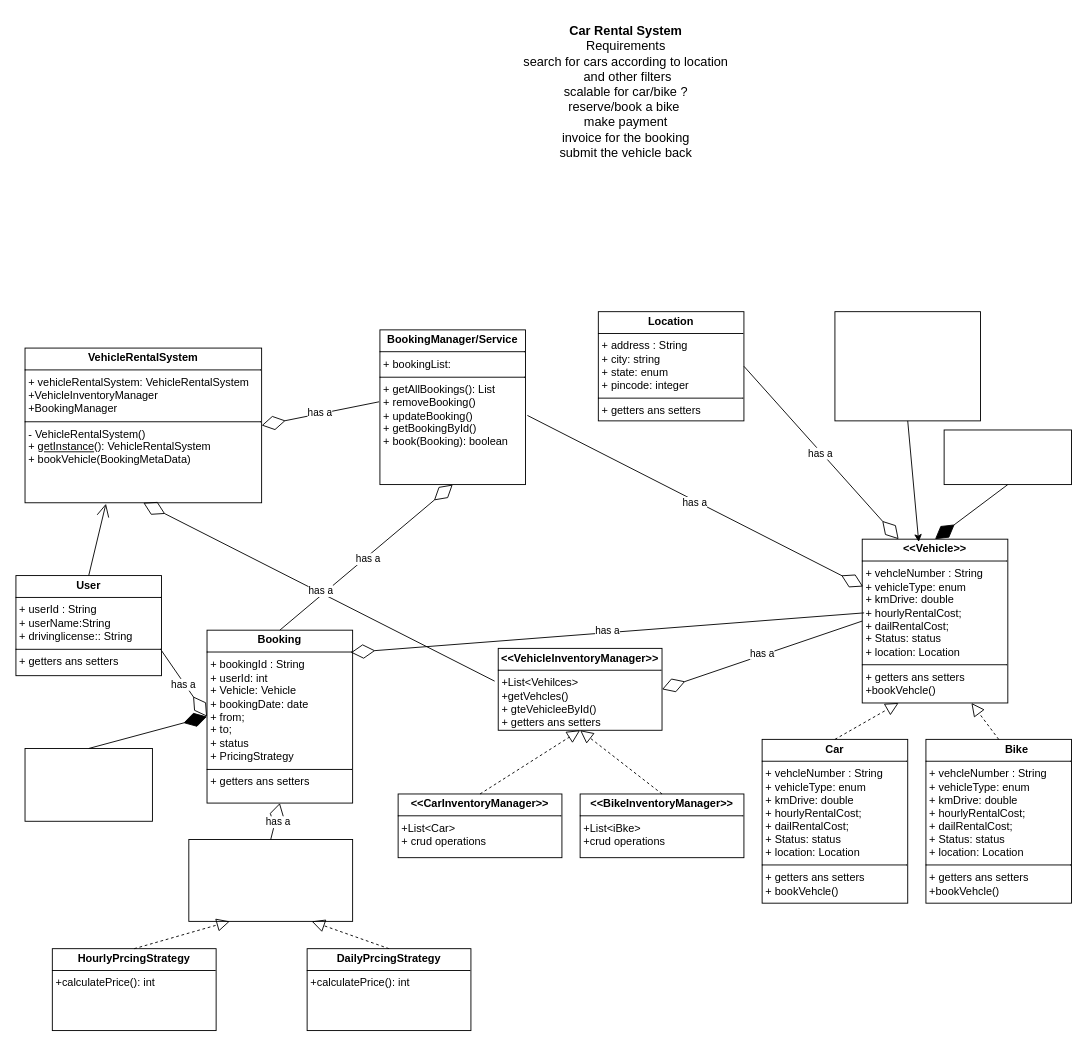
Some shapes in this 1087 by 1047 pixel diagram are drawn without their labels. The centre of each missing label's shape, as x and y in pixels:
"<<PrcingStrategy>> +calculatePrice(): int" belongs at pixel 270 880.
"Enum Booking Status In Progress Completed Cancelled" belongs at pixel 88 784.
"Enum VehicleType Car Bike" belongs at pixel 1007 457.
"VehicleFactory + createVehicle(): Vehicle" belongs at pixel 907 366.
